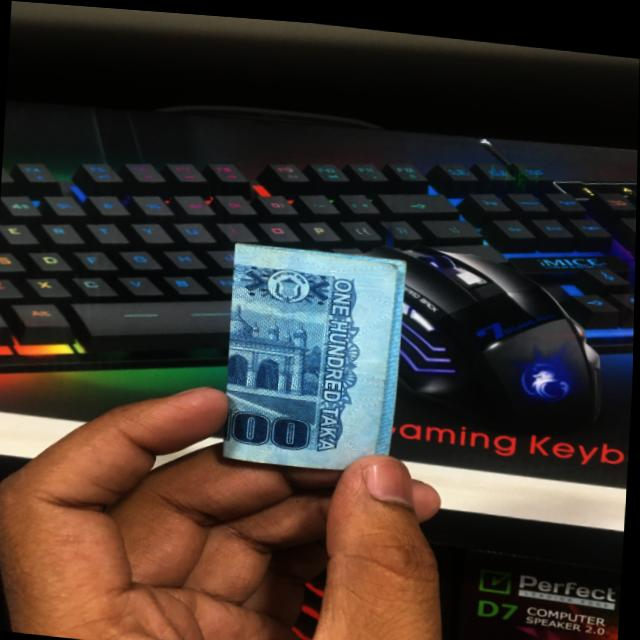Taka: (217, 235, 393, 468)
